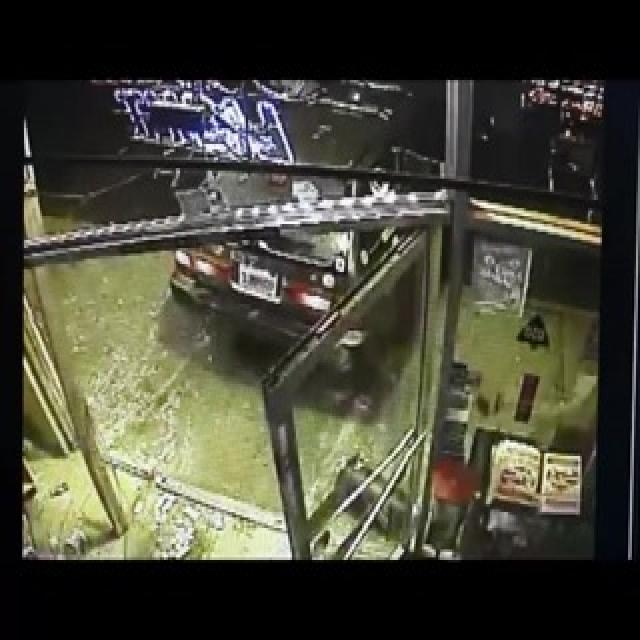burglary: (127, 141, 401, 383)
